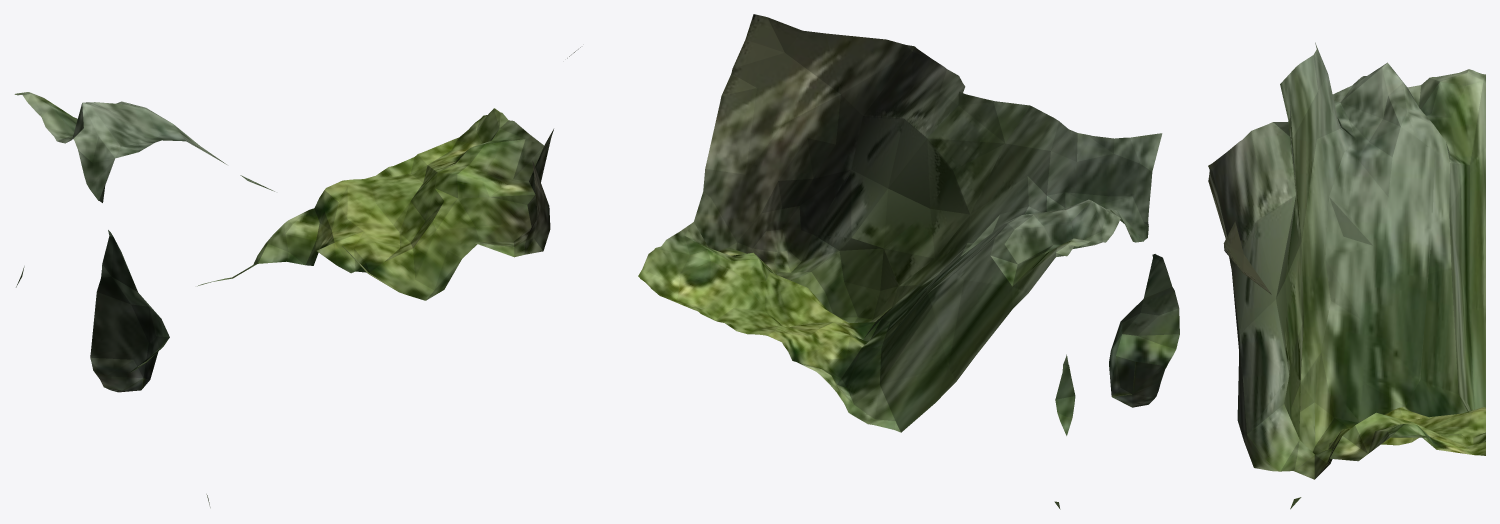
3 views of the same model, side by side, from view 1: azimuth 30°, elevation 25°; view 2: azimuth 150°, elevation 25°; view 3: azimuth 270°, elevation 25° (orthographic). The views are drawn at different scales.
Size of the model in its own units: 5.9 by 5.16 by 2.93.
2 materials, 2 textured.
